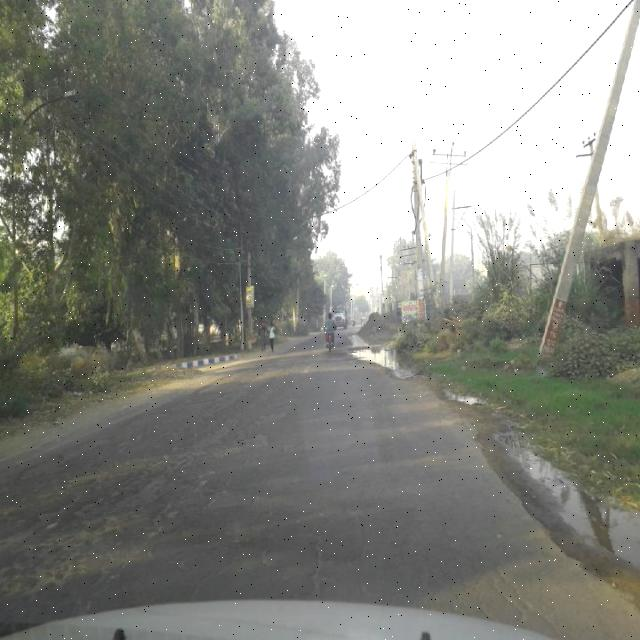D00: (280, 459, 336, 598)
D20: (1, 465, 208, 593)
D40: (22, 405, 268, 591)
